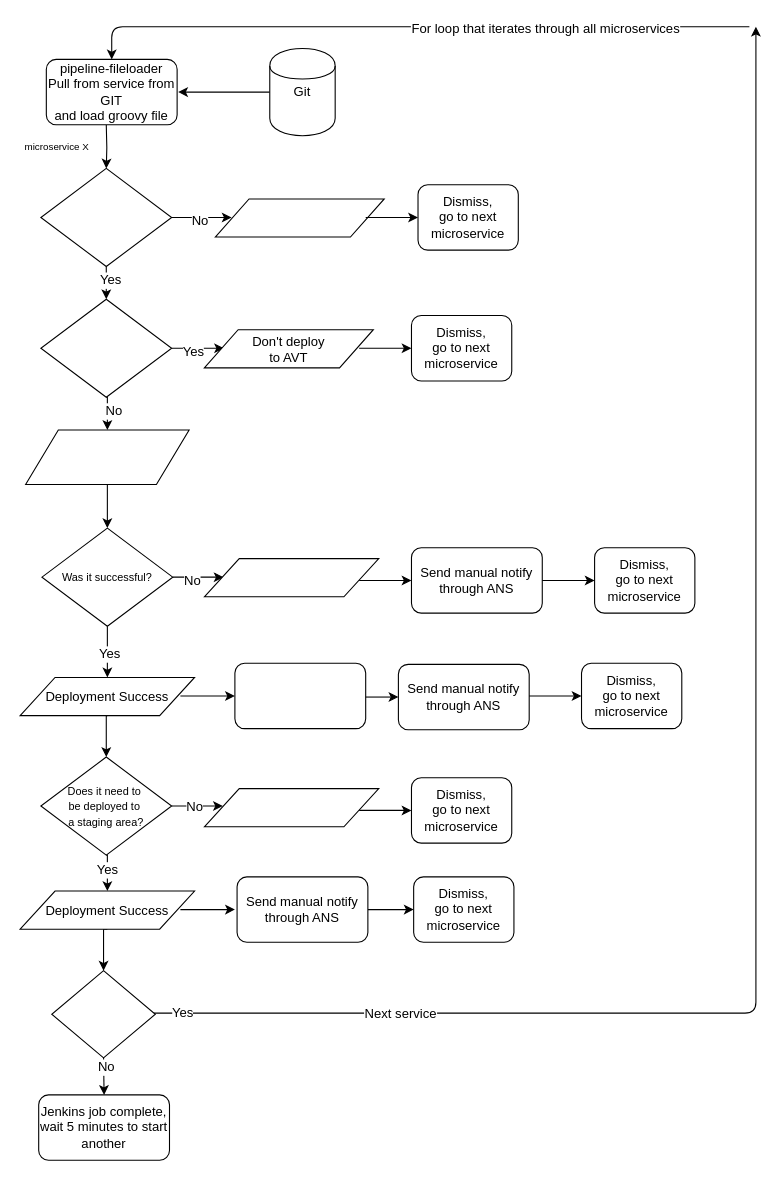
Image size: 784x1179. Some labels were removed from this diagram. Here are the shapes that lost their labels. From the top down, the centre of each, then its label:
point 106,217: Did it pass it's tests?
point 299,217: Don't deploy to AVT or staging
point 106,347: Is it already deployed to AVT?
point 107,457: Deploy to AVT
point 291,577: Deployment failed
point 300,695: Tag service with deployment version
point 291,807: No deployment needed
point 103,1014: Any more services?
